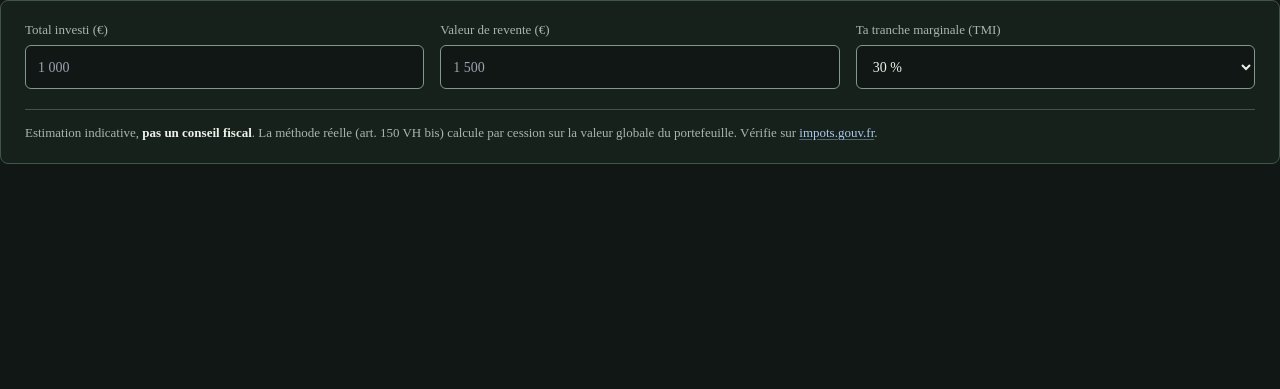
CryptoTaxCalculator › accepts a decimal comma
Step 1. Type "1 000,50" into the field labelled "Total investi (€)" → (225, 67), box [25,45,424,89]
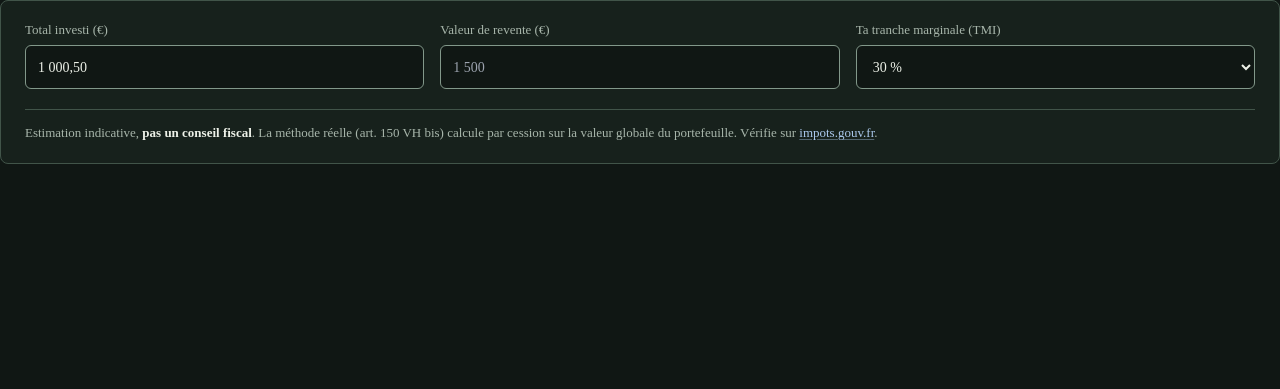
Step 2. Type "1 500,50" into the field labelled "Valeur de revente (€)" → (640, 67), box [440,45,840,89]
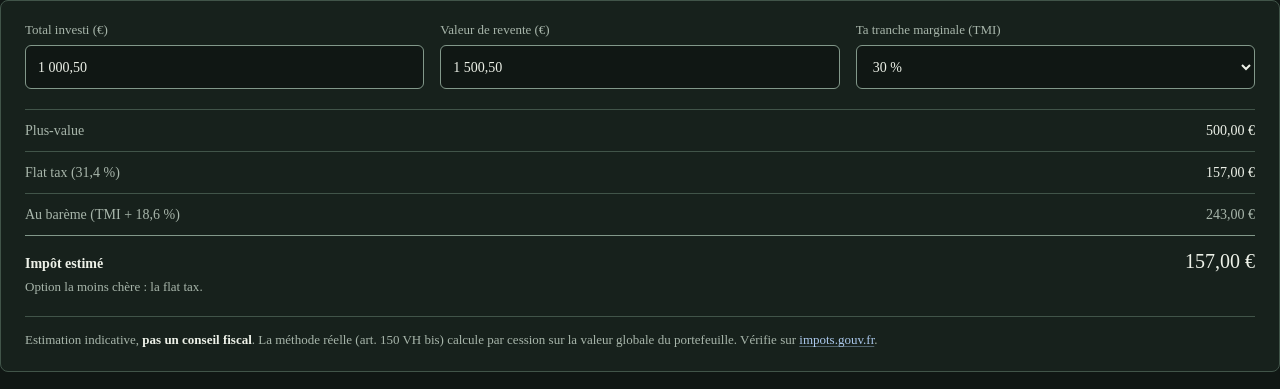
Result: the text with test id "gain" shows "500,00" at [1206,123,1255,138]
